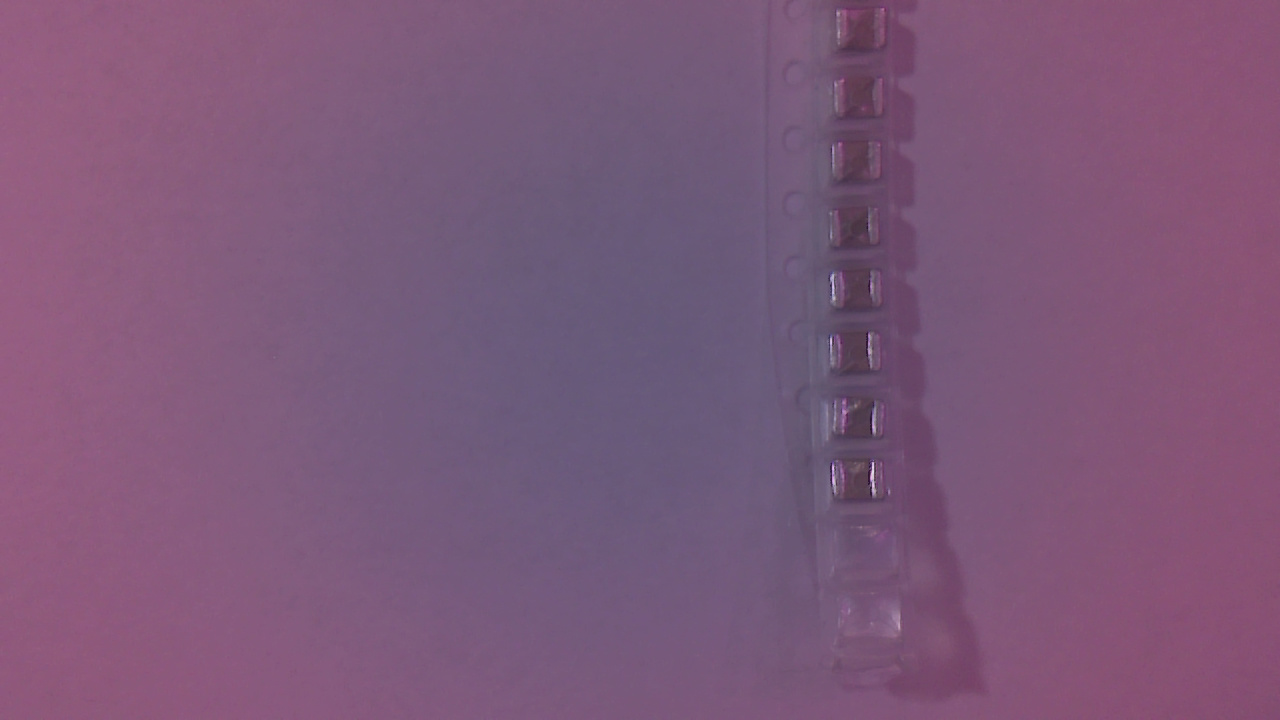Condensator: (839, 10, 893, 57), (836, 465, 891, 509), (836, 401, 892, 444), (837, 142, 890, 187), (833, 336, 888, 379), (837, 81, 891, 124), (833, 275, 887, 313), (832, 214, 884, 250)
